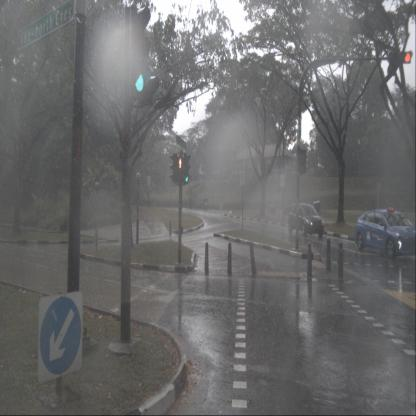vehicle-car: (354, 207, 416, 259), (288, 203, 324, 237)
